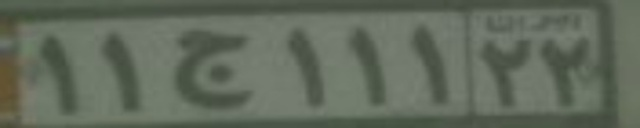1: (406, 23, 452, 104), (34, 35, 80, 115), (345, 27, 388, 107), (99, 33, 141, 110), (283, 29, 323, 107)
2: (538, 36, 594, 107), (479, 37, 530, 106)
jim: (171, 30, 256, 110)
